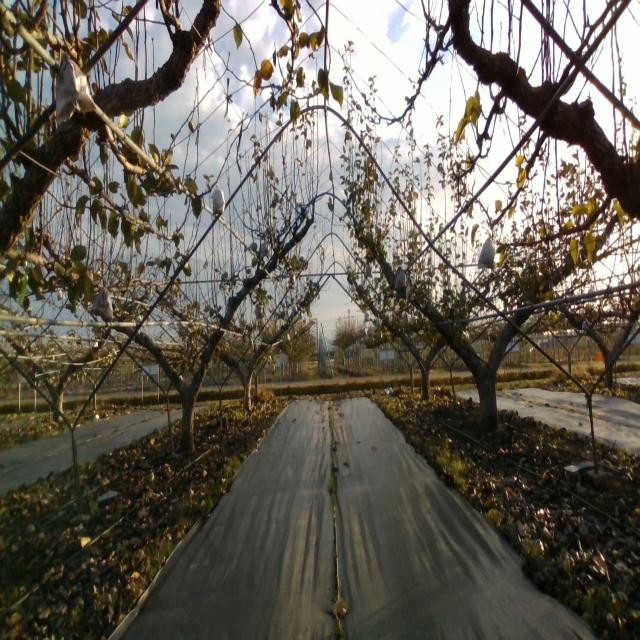pearbags: (54, 53, 97, 124), (477, 234, 496, 270), (211, 182, 226, 215), (258, 235, 272, 259), (395, 267, 407, 292)
